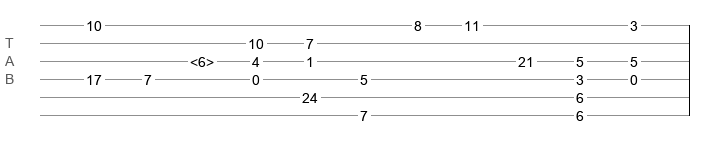0: (252, 72, 260, 82), (630, 72, 638, 82)
1: (306, 54, 314, 64)
10: (86, 18, 102, 28), (248, 36, 264, 46)
11: (464, 18, 480, 28)
17: (86, 72, 102, 82)
21: (518, 54, 534, 64)
24: (302, 90, 318, 100)
3: (576, 72, 584, 82), (630, 18, 638, 28)
4: (252, 54, 260, 64)
5: (360, 72, 368, 82), (576, 54, 584, 64), (630, 54, 638, 64)
6: (576, 108, 584, 118), (576, 90, 584, 100)
7: (144, 72, 152, 82), (306, 36, 314, 46), (360, 108, 368, 118)
8: (414, 18, 422, 28)
harmonic: (190, 54, 214, 64)
